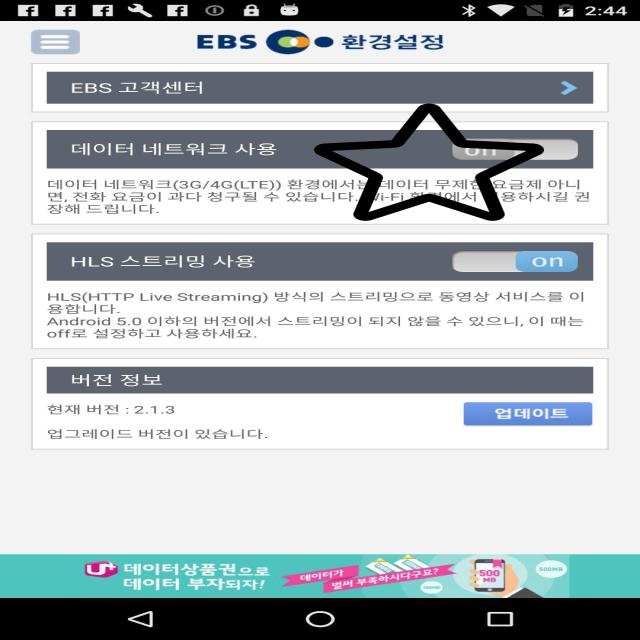forced continuity: (314, 101, 544, 223)
